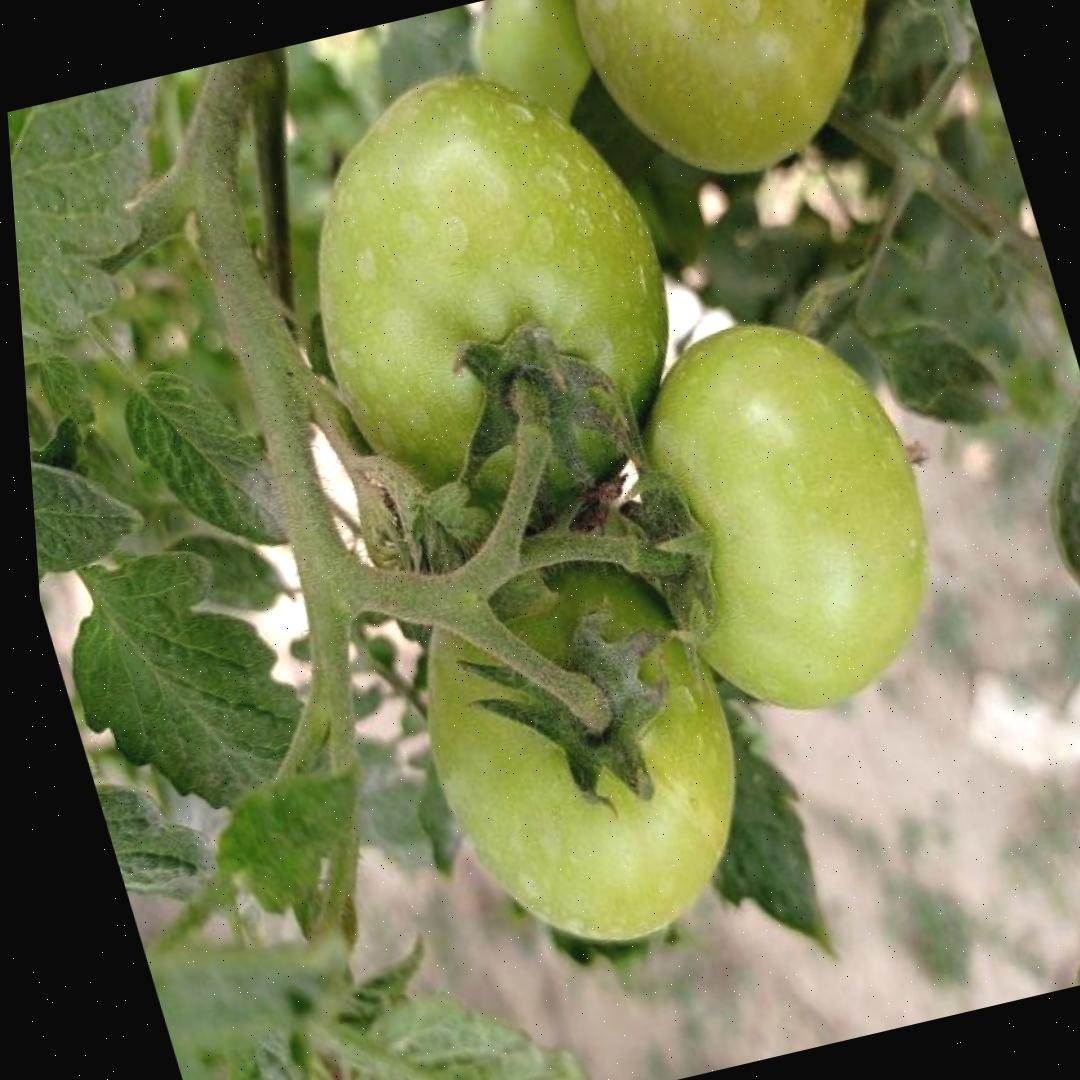mentah: (246, 33, 732, 554), (367, 497, 788, 974), (588, 284, 988, 738), (557, 0, 950, 203)
